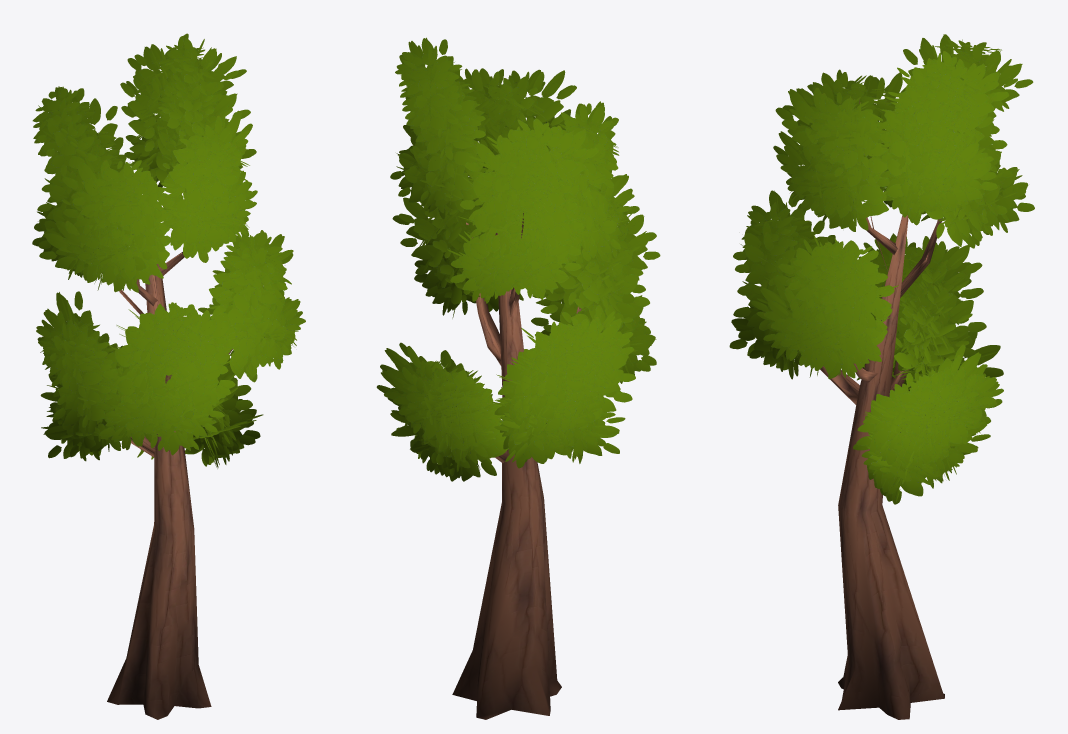
Rendered from tree-teaching-3-sapling.glb.
3 views of the same model, side by side, from view 1: azimuth 30°, elevation 25°; view 2: azimuth 150°, elevation 25°; view 3: azimuth 270°, elevation 25° (orthographic). The views are drawn at different scales.
Visible parts, largest first — view 1: CommonTree_3; view 2: CommonTree_3; view 3: CommonTree_3.
Part boxes in pixels (x1=…): CommonTree_3: x1=32, y1=33, x2=305, y2=719; CommonTree_3: x1=376, y1=37, x2=660, y2=719; CommonTree_3: x1=729, y1=34, x2=1034, y2=719.
Bounding box in the file's own units: 0.2802 × 0.65 × 0.2925.
2 materials, 2 textured.
